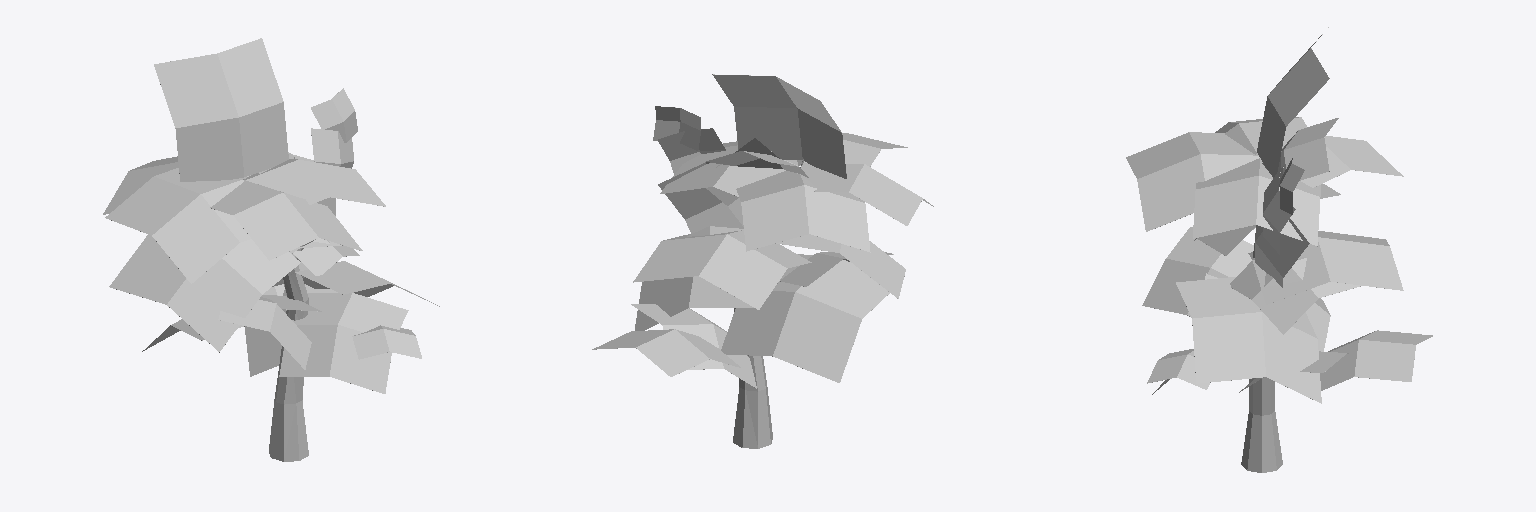
File: TreeNoLeaf_02.obj
3 views of the same model, side by side, from view 1: azimuth 30°, elevation 25°; view 2: azimuth 150°, elevation 25°; view 3: azimuth 270°, elevation 25° (orthographic).
Parts seen in each view (by area): view 1: TreeNoLeaf_02_Circle.004; view 2: TreeNoLeaf_02_Circle.004; view 3: TreeNoLeaf_02_Circle.004.
Boxes of the visible parts, <box> form: TreeNoLeaf_02_Circle.004: <box>103,38,439,461</box>; TreeNoLeaf_02_Circle.004: <box>592,74,933,448</box>; TreeNoLeaf_02_Circle.004: <box>1126,27,1432,472</box>.
Bounding box in the file's own units: 37.39 × 48.41 × 34.41.